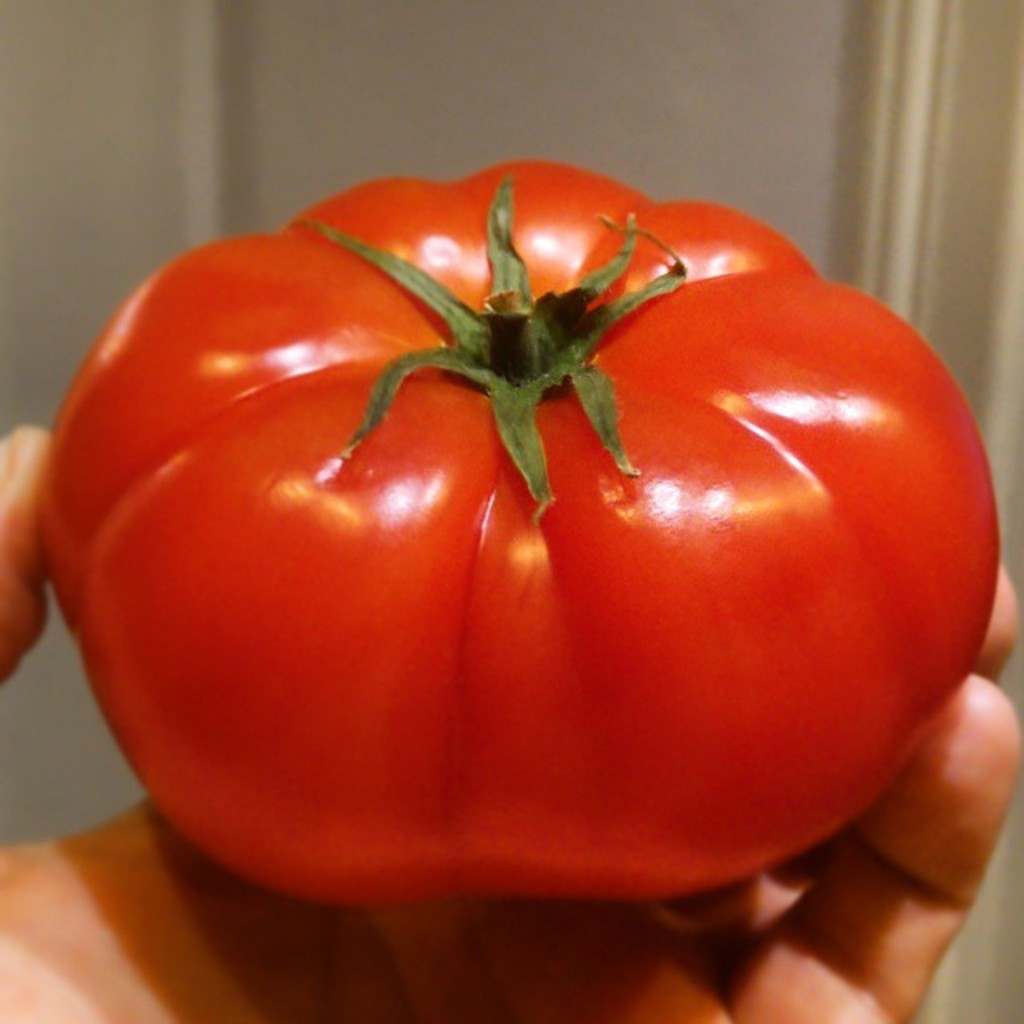Tomato: (32, 144, 1004, 926)
